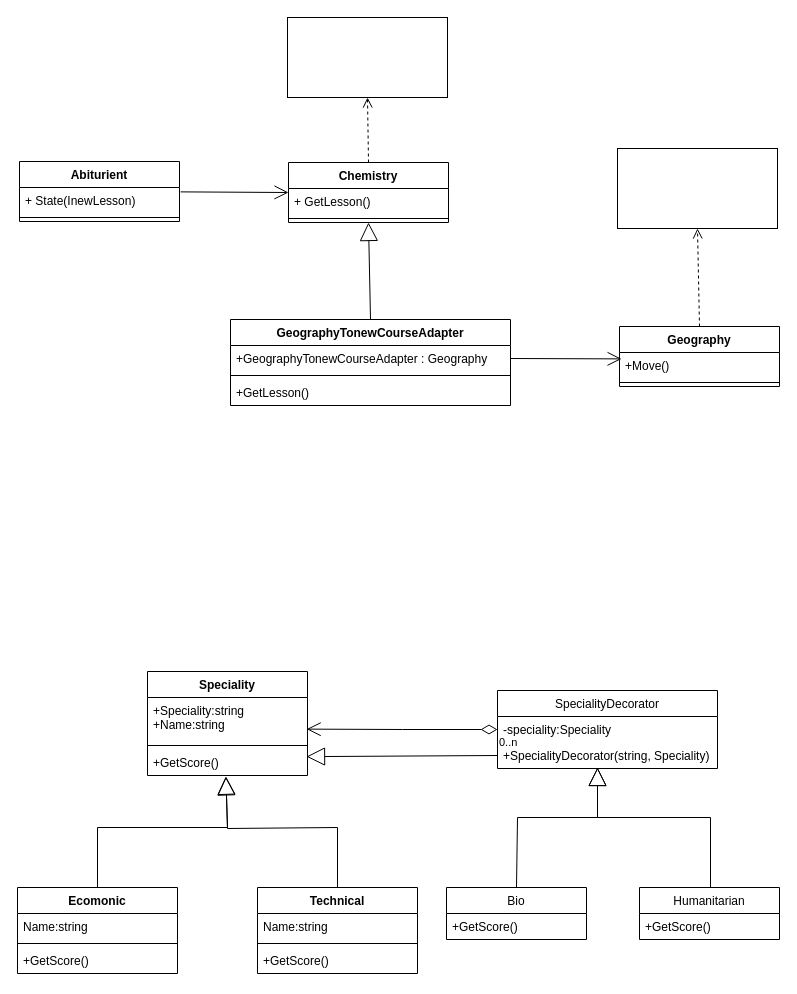
This 797x994 diagram has some shape labels left out. The shapes that lost their labels are listed below. From the top down, each one's centre as x and y in pixels, then its label:
At point (367, 57): "«interface» InewLesson +GetLesson()".
At point (697, 188): "«interface» ISubject +Move()".
